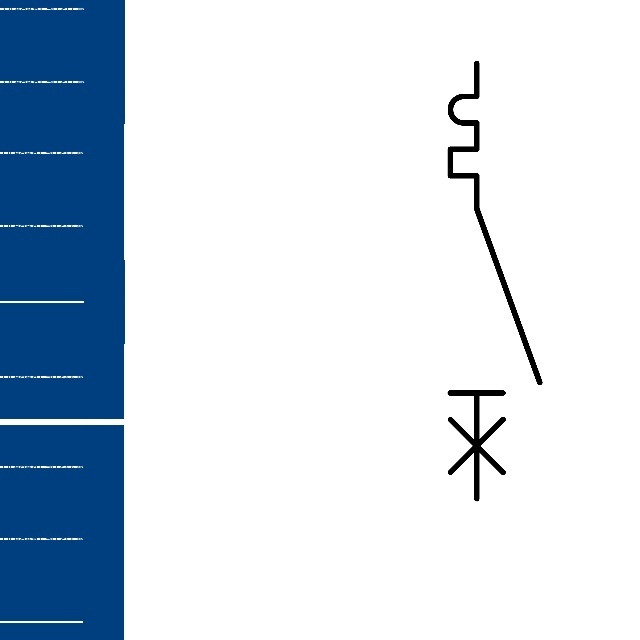interruptor_termomagnetico: (439, 52, 551, 510)
